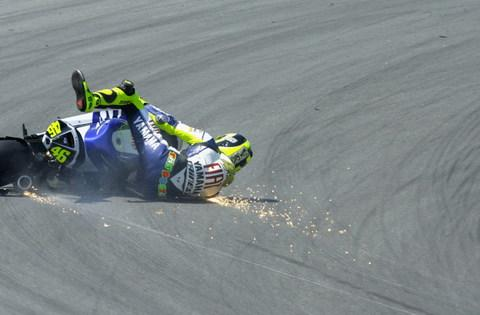fall: (57, 67, 266, 208)
